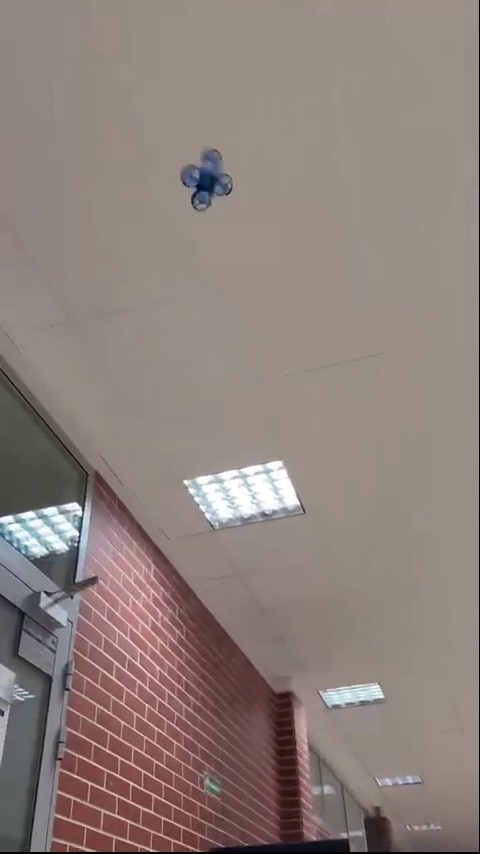drone: (177, 150, 239, 213)
